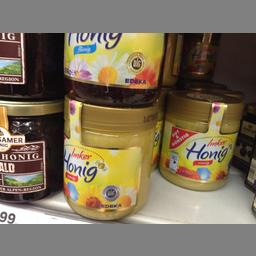honey: (58, 96, 158, 222), (162, 84, 244, 190)
